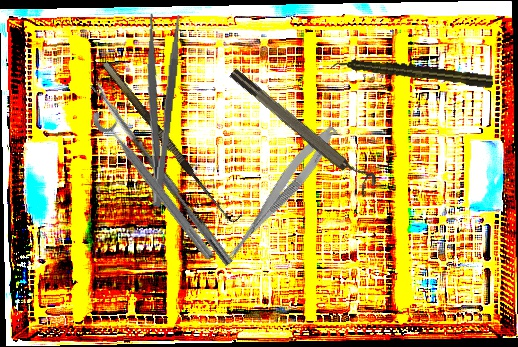Dressing Forceps: (132, 12, 183, 208)
Fixation Ring: (88, 98, 227, 265), (226, 59, 381, 198)
Handpiece: (331, 54, 494, 90)
Hook Surgical: (101, 53, 244, 228)
Micro Scissor: (217, 119, 342, 275)
Surgical Spoon: (90, 79, 234, 267)
